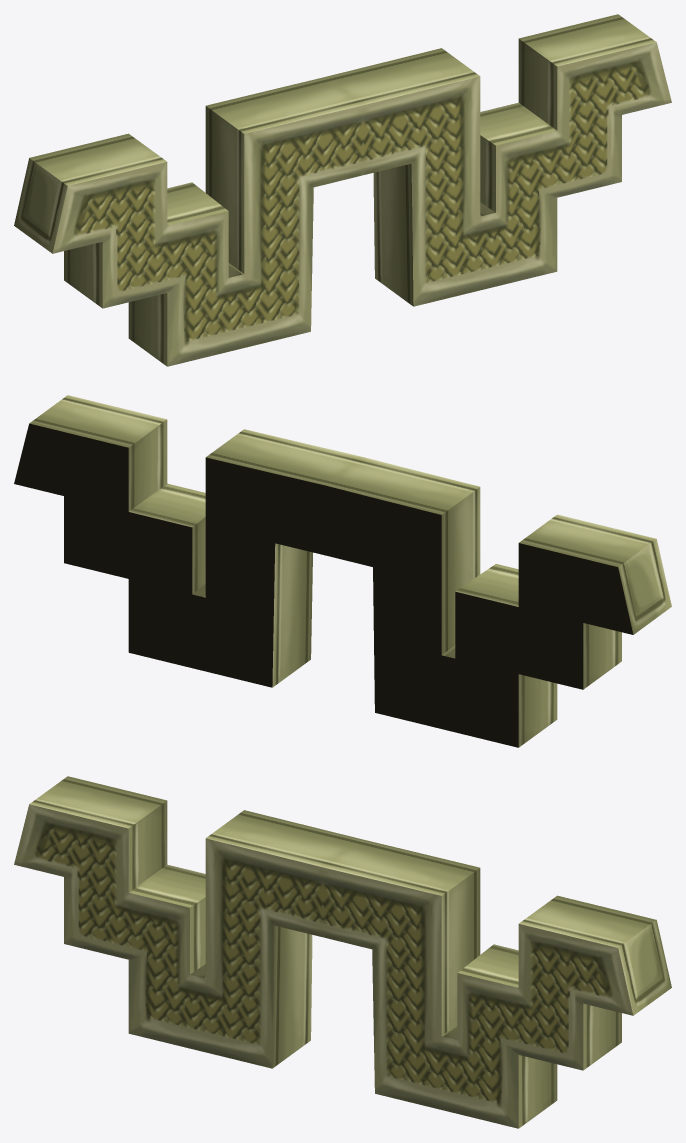
File: Wall_fence.fbx
3 views of the same model, one above another, from view 1: azimuth 30°, elevation 25°; view 2: azimuth 150°, elevation 25°; view 3: azimuth 330°, elevation 25° (orthographic).
Visible parts, largest first — view 1: polySurface11; view 2: polySurface11; view 3: polySurface11.
Part boxes in pixels (<box>): polySurface11: <box>14,14,671,366</box>; polySurface11: <box>14,395,671,747</box>; polySurface11: <box>14,776,671,1128</box>.
Size of the model in its own units: 1.12 by 0.3695 by 0.123.
